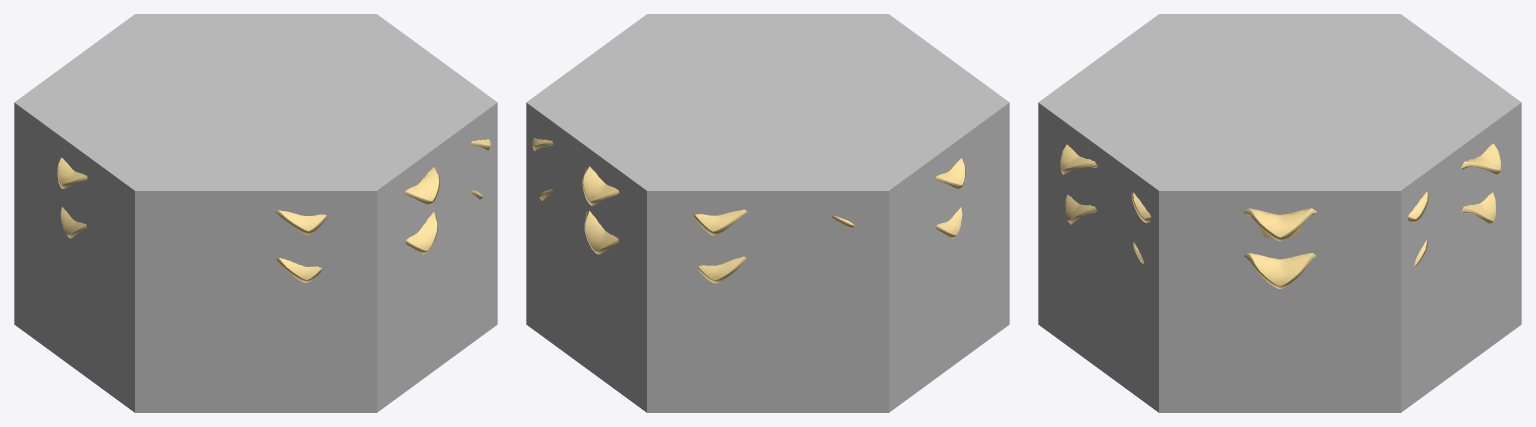
The model's file is SM_Golden_Base_01.fbx.
3 views of the same model, side by side, from view 1: azimuth 30°, elevation 25°; view 2: azimuth 150°, elevation 25°; view 3: azimuth 270°, elevation 25° (orthographic).
Parts seen in each view (by area): view 1: SM_Golden_Base_01_ConvexHulls, SM_Golden_Base_01; view 2: SM_Golden_Base_01_ConvexHulls, SM_Golden_Base_01; view 3: SM_Golden_Base_01_ConvexHulls, SM_Golden_Base_01.
Boxes of the visible parts, bbox=[...] form: SM_Golden_Base_01_ConvexHulls: bbox=[14, 14, 497, 412]; SM_Golden_Base_01: bbox=[57, 139, 490, 282]; SM_Golden_Base_01_ConvexHulls: bbox=[526, 14, 1009, 412]; SM_Golden_Base_01: bbox=[532, 138, 965, 283]; SM_Golden_Base_01_ConvexHulls: bbox=[1038, 14, 1521, 412]; SM_Golden_Base_01: bbox=[1060, 143, 1500, 288].
Size of the model in its own units: 329 by 344 by 175.
3 materials, 2 textured.
